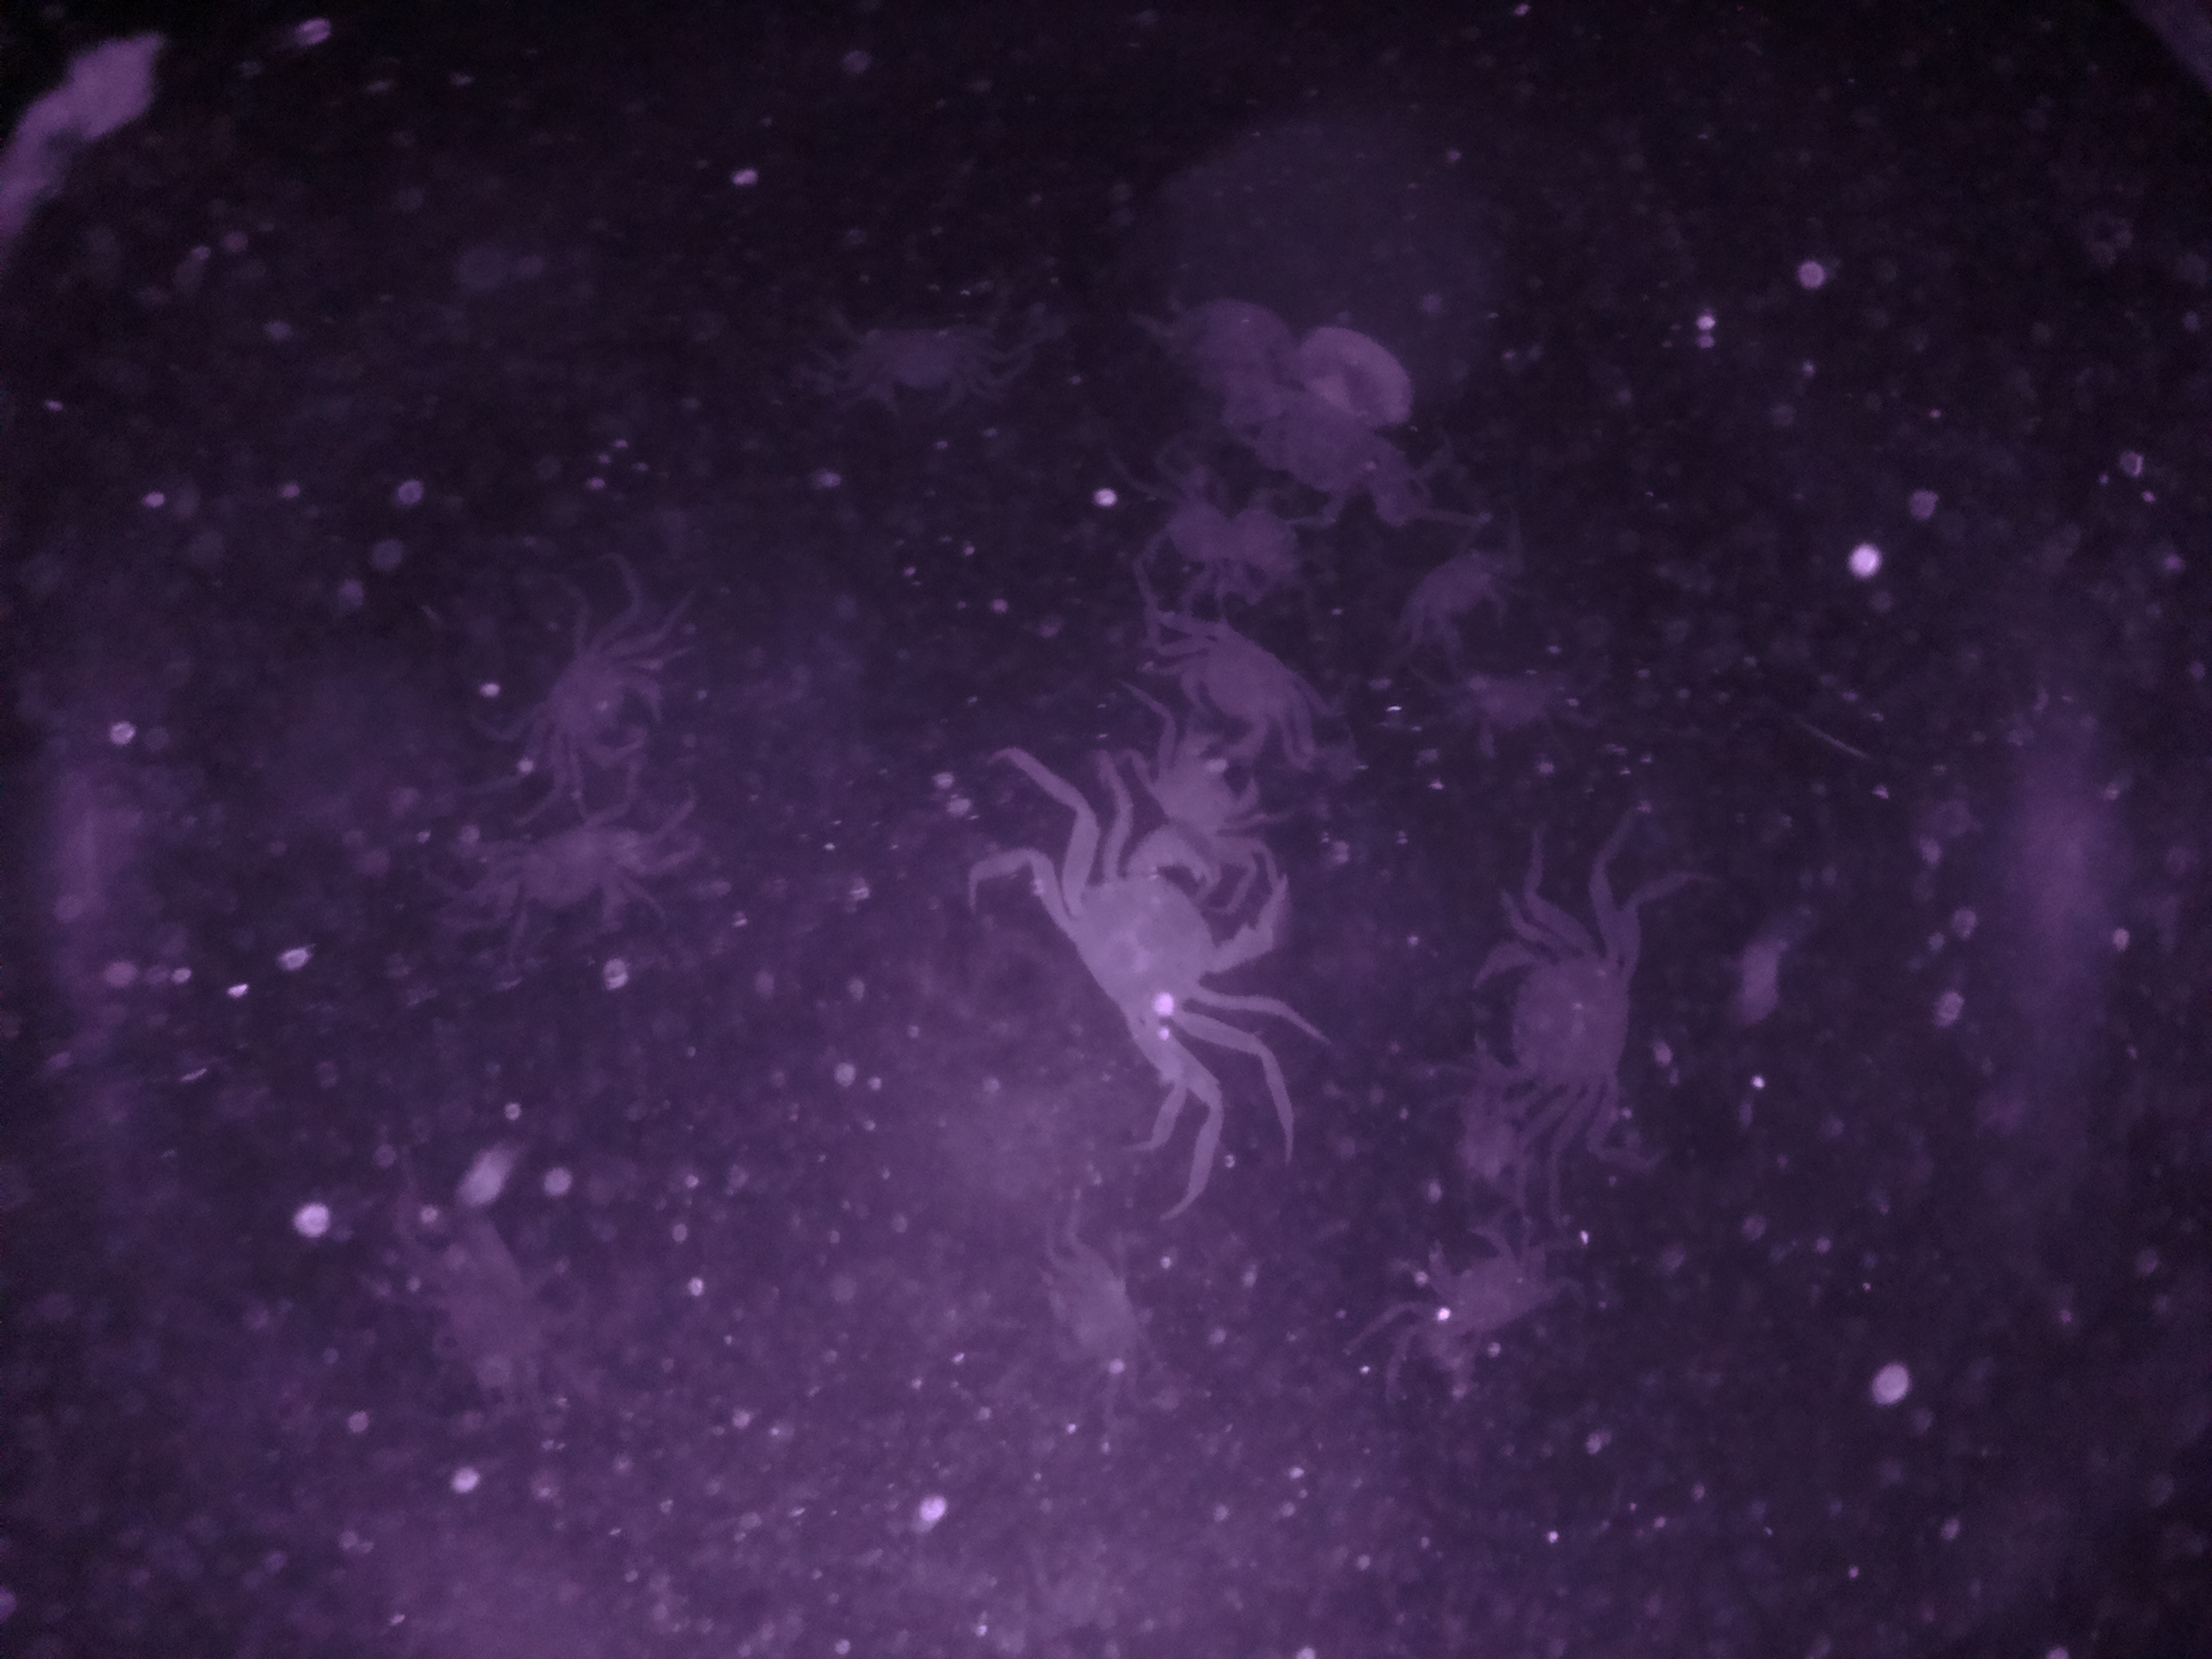Crab: (1038, 807, 1306, 1084), (1446, 910, 1670, 1150), (1390, 1192, 1594, 1375), (1146, 580, 1334, 767), (521, 612, 698, 784)
